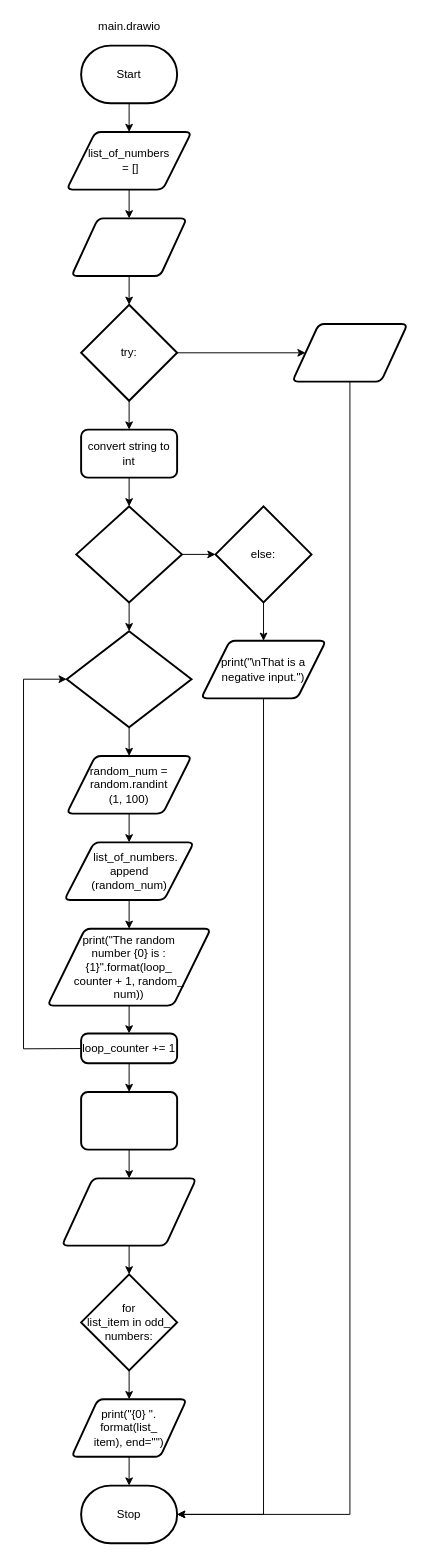
This 425x1560 diagram has some shape labels left out. The centre of each missing label's shape, as x and y in pixels:
for loop_counter in range(0, num_of_ elements):: point (128, 679)
if num_of_elements > 0:: point (128, 554)
odd_numbers = find_odd_positions (list_of_numbers): point (129, 1120)
print("\nThe numbers in odd positions in the list are : ", end=""): point (128, 1211)
print("That is not a valid input."): point (349, 352)
print(input("# of random numbers you want: "): point (128, 246)
